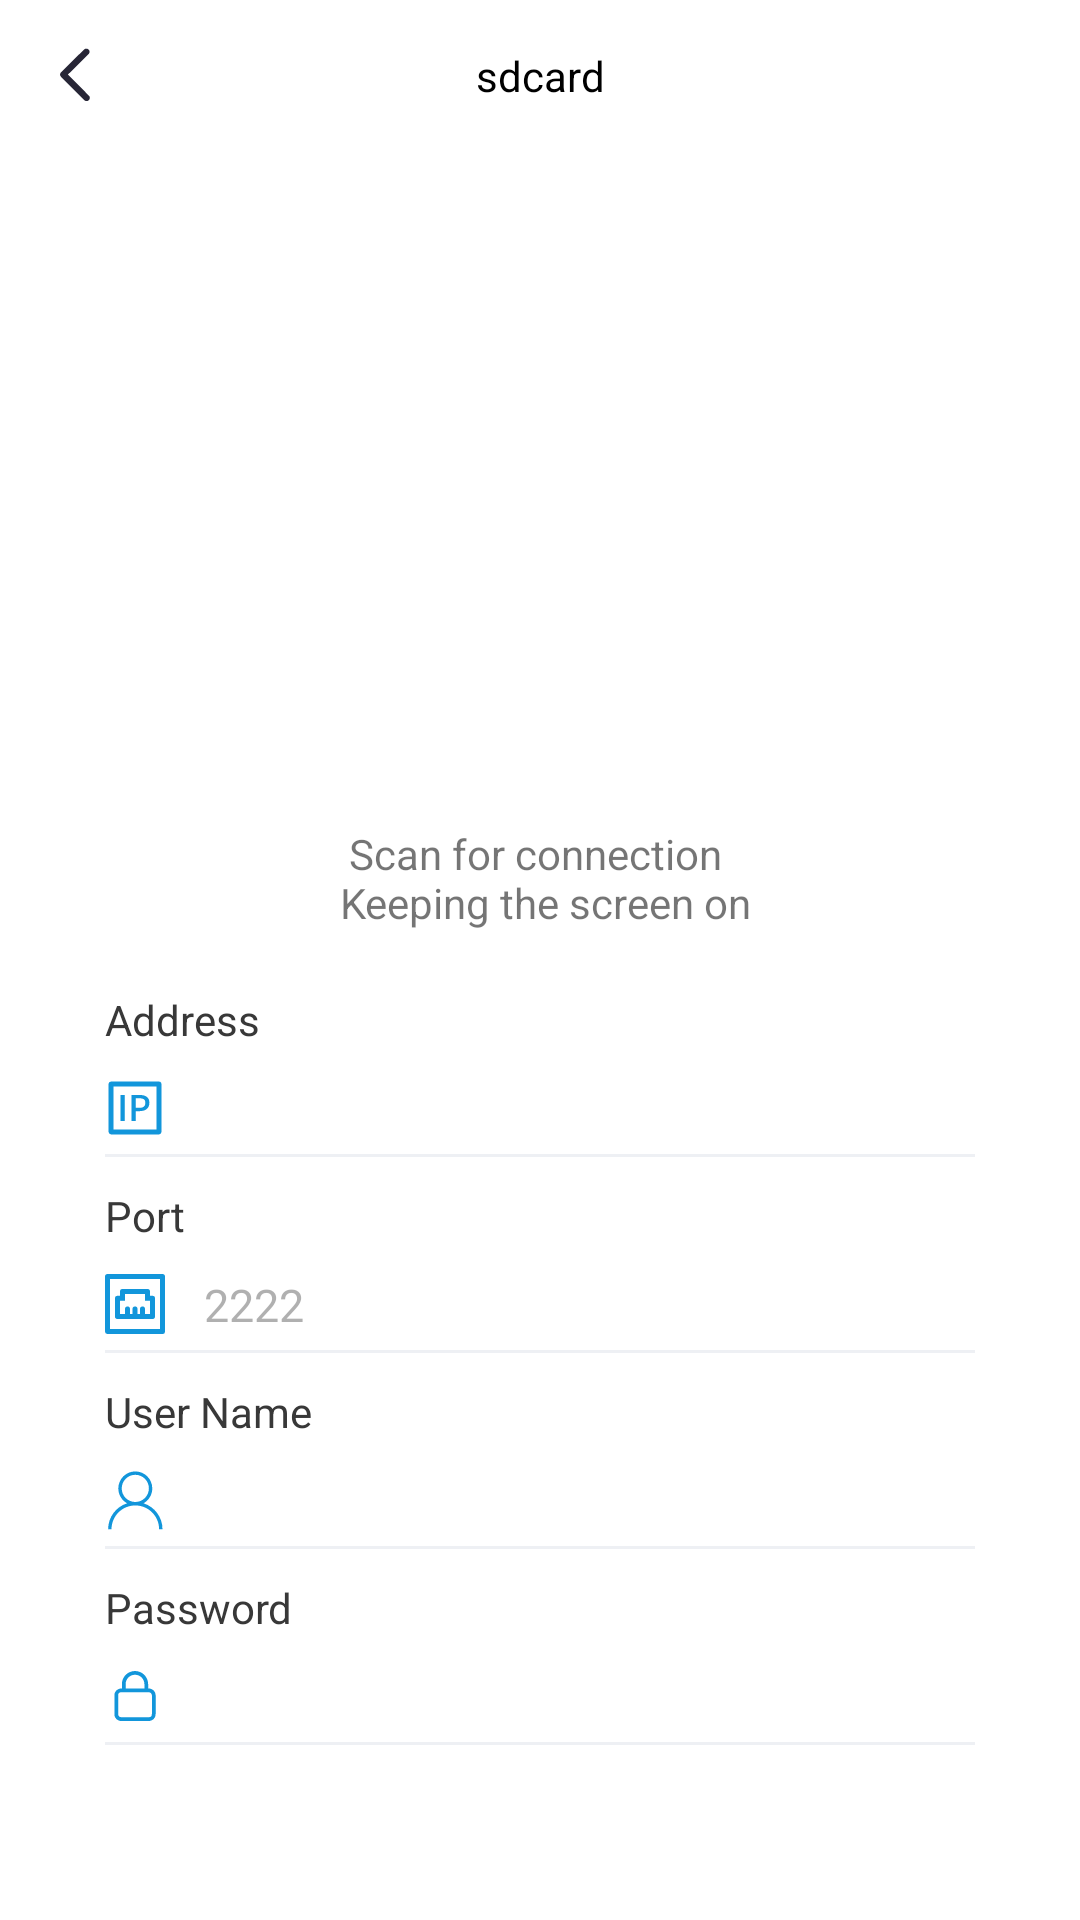

Icons on this 1080px×1920px Android screen, each with its box as (x1, y1, x2, y2):
left: (60, 48, 90, 101)
